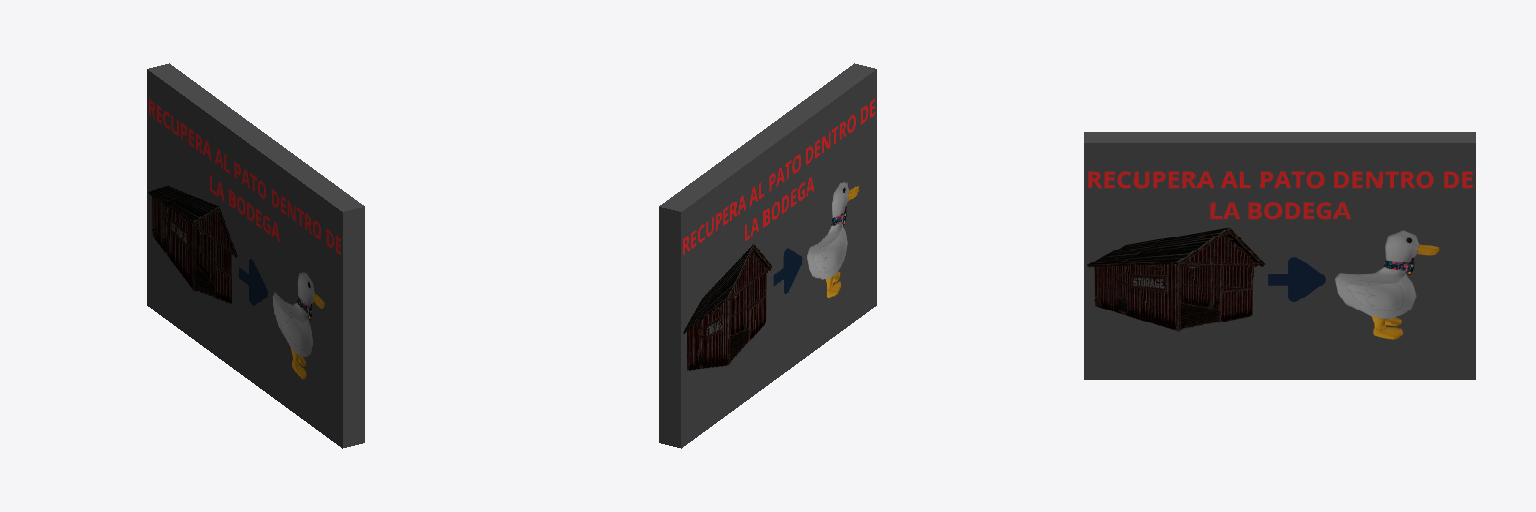
The picture shows the model from 3 angles: view 1: azimuth 30°, elevation 25°; view 2: azimuth 150°, elevation 25°; view 3: azimuth 270°, elevation 25°; orthographic projection.
Visible parts, largest first — view 1: pCube1; view 2: pCube1; view 3: pCube1.
Part boxes in pixels (x1,y1,x2,y2): pCube1: (147, 63, 364, 448); pCube1: (659, 63, 876, 448); pCube1: (1084, 132, 1475, 379).
Bounding box in the file's own units: 1 × 10 × 15.
Materials: 1 (1 with a texture image).